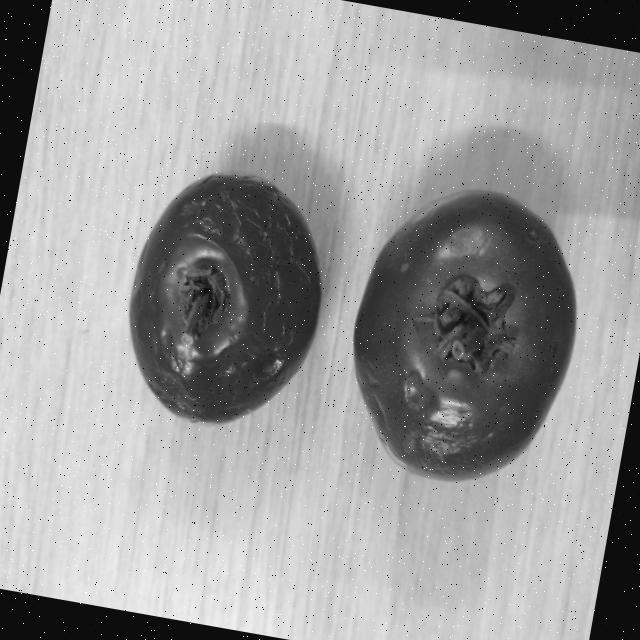Rotten: (328, 170, 599, 498), (108, 154, 344, 442)
